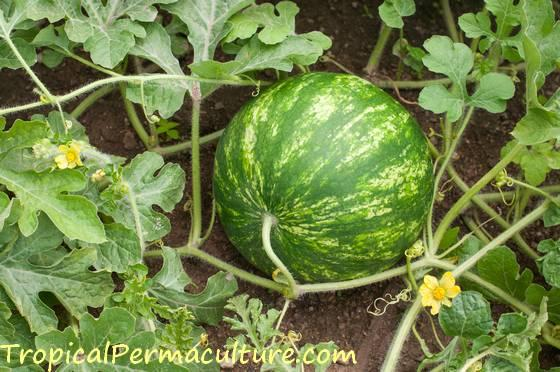watermelon: (203, 58, 440, 309)
